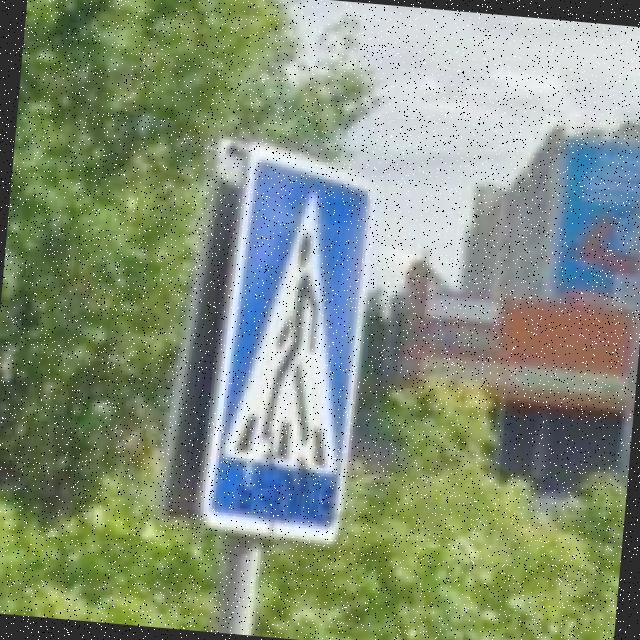Przejscie dla pieszych: (184, 130, 388, 554)
